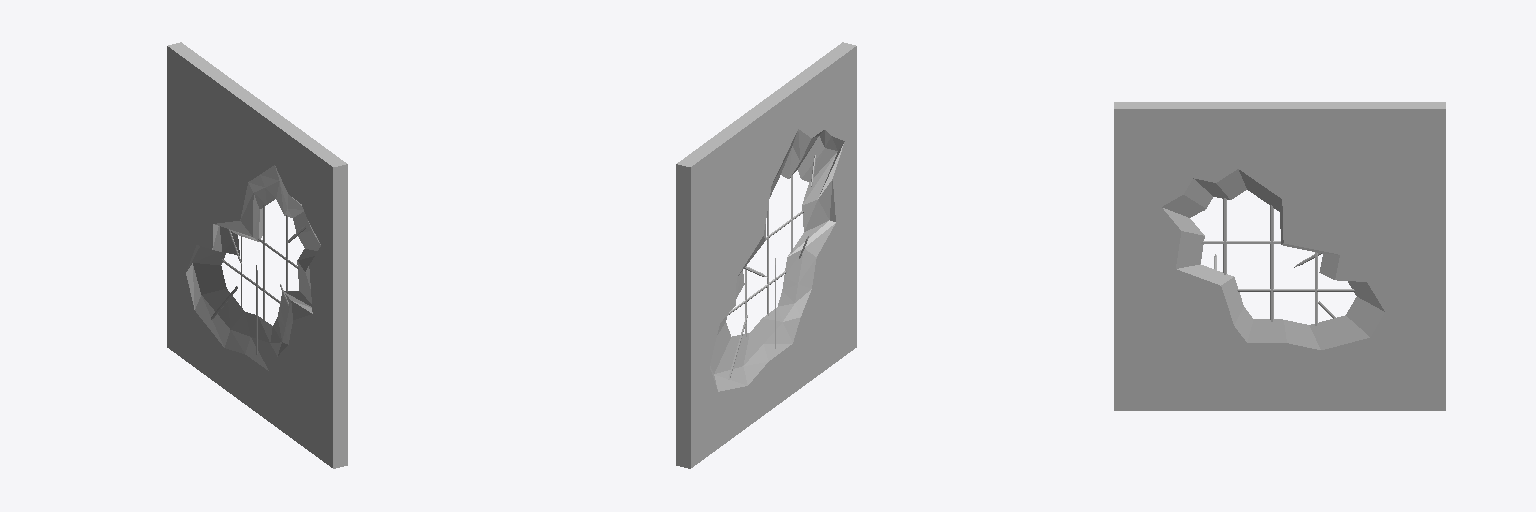
File: pared_rota.obj
3 views of the same model, side by side, from view 1: azimuth 30°, elevation 25°; view 2: azimuth 150°, elevation 25°; view 3: azimuth 270°, elevation 25° (orthographic).
Visible parts, largest first — view 1: pCylinder58; view 2: pCylinder58; view 3: pCylinder58.
Boxes of the visible parts, box(x1,y1,x2,y2) form: pCylinder58: box(167, 42, 347, 468); pCylinder58: box(676, 42, 856, 468); pCylinder58: box(1114, 102, 1445, 410).
Bounding box in the file's own units: 0.0591 × 1 × 1.